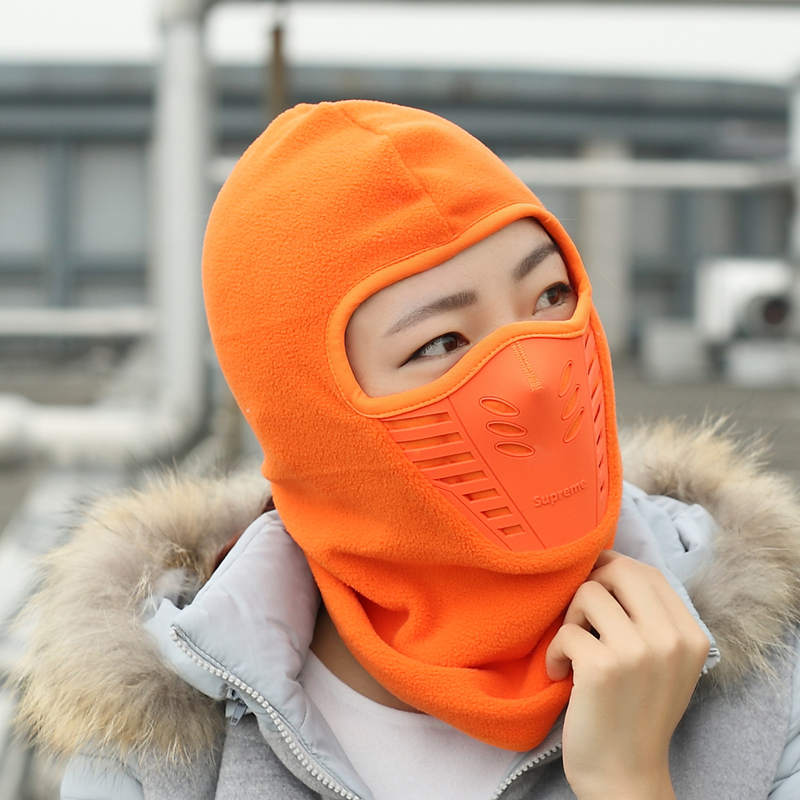face_mask: (328, 197, 605, 559)
